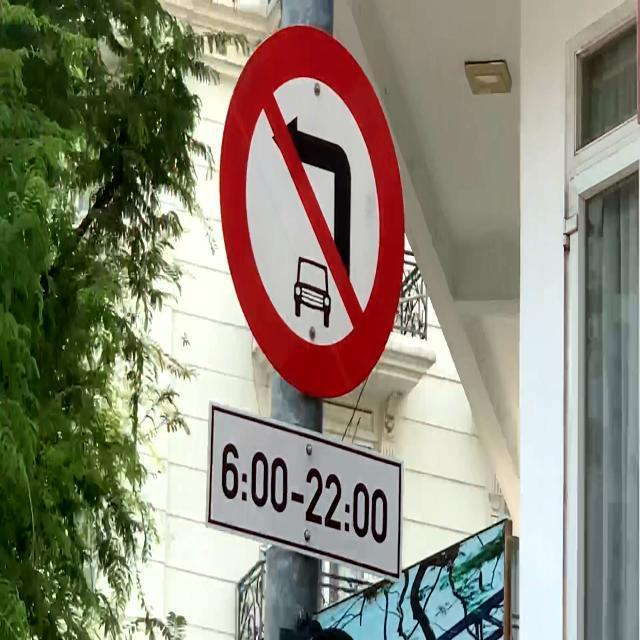123a-cam-re-trai: (220, 29, 405, 398)
